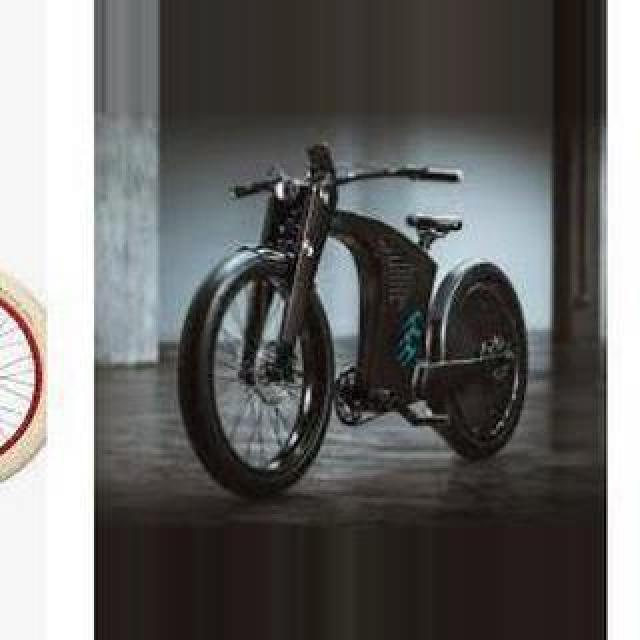Person: (180, 144, 528, 498)
